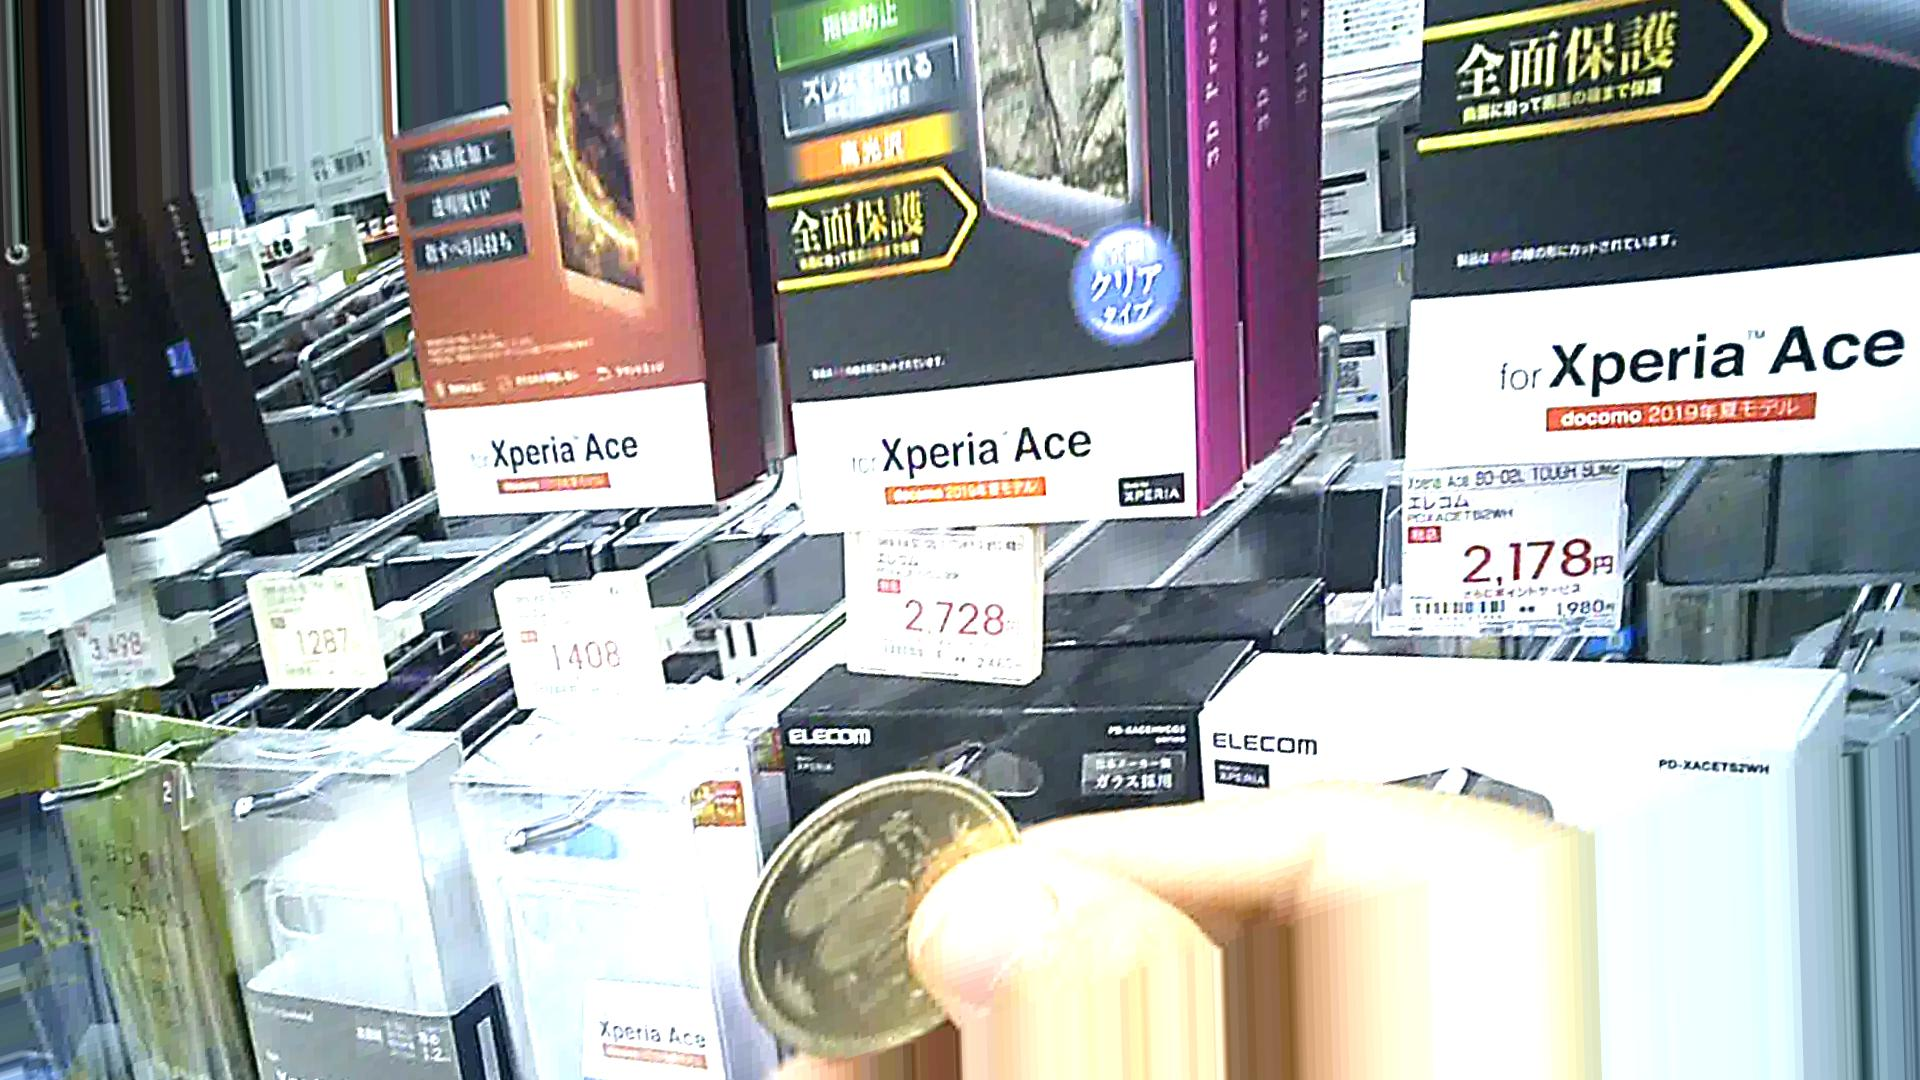500 Yen: (720, 760, 1026, 1073)
